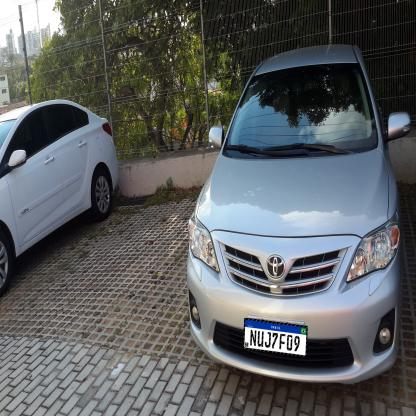PlacaM: (243, 318, 308, 357)
